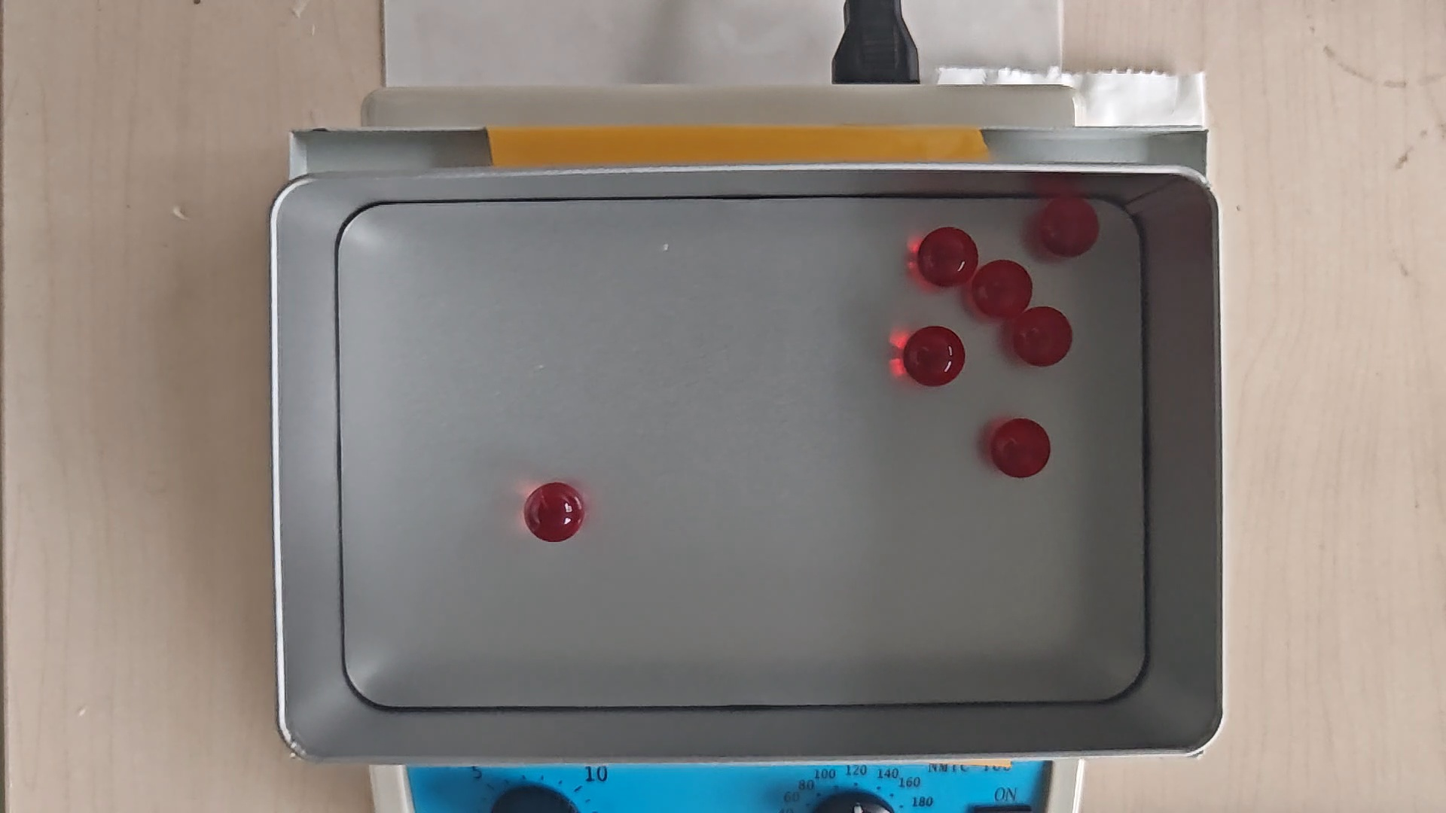ball: (902, 325, 966, 388), (523, 481, 587, 543), (1036, 196, 1100, 258), (917, 225, 979, 288), (1011, 305, 1072, 368), (991, 418, 1051, 480), (974, 259, 1033, 318)
container: (336, 197, 1149, 706)
